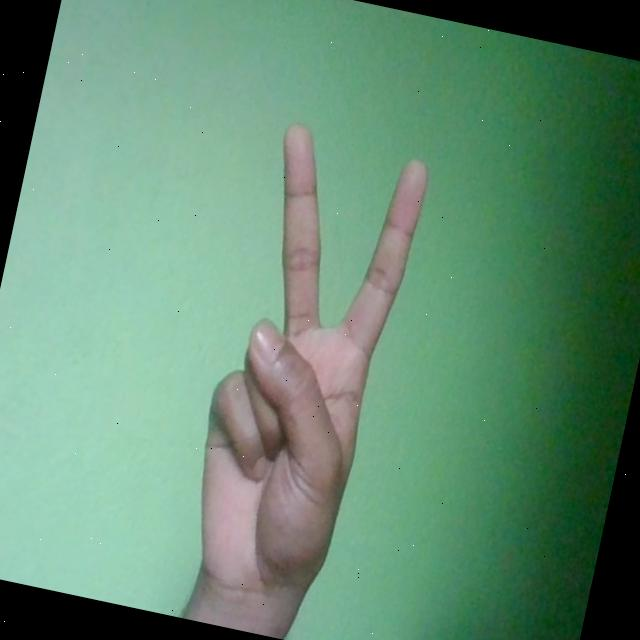Fist: (170, 114, 434, 622)
